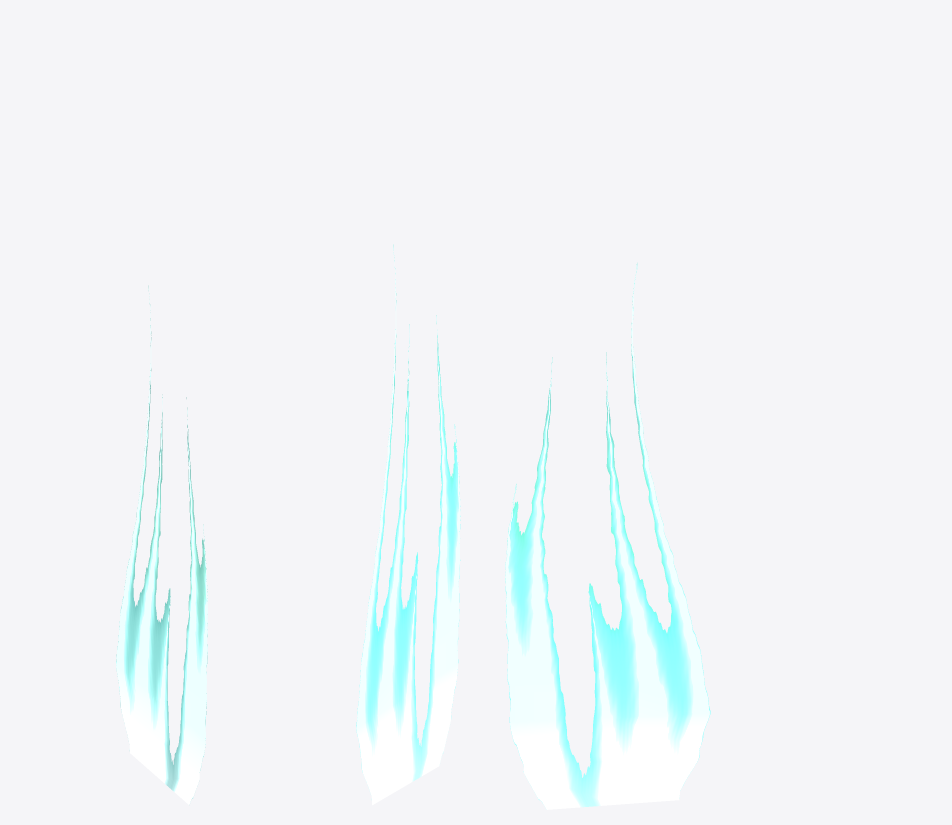
Rendered from Slash_01.fbx.
3 renders of one model, left to right at view 1: azimuth 30°, elevation 25°; view 2: azimuth 150°, elevation 25°; view 3: azimuth 270°, elevation 25°, orthographic. The views are drawn at different scales.
Parts seen in each view (by area): view 1: pPipe1; view 2: pPipe1; view 3: pPipe1.
Boxes of the visible parts, x1,y1,x2,y2 form: pPipe1: (116, 285, 207, 805); pPipe1: (356, 244, 460, 805); pPipe1: (505, 263, 710, 809).
Bounding box in the file's own units: 7.98e-07 × 10.21 × 5.15.
